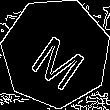M_NE: (23, 19, 89, 87)
